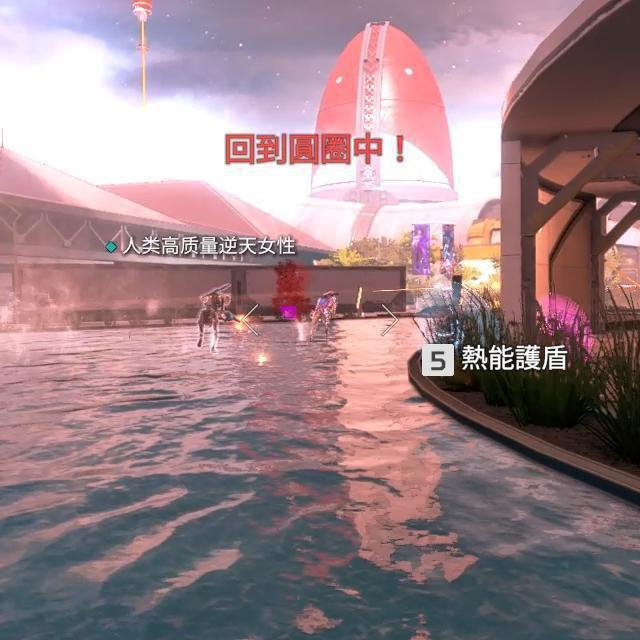avatar: (195, 288, 233, 354)
